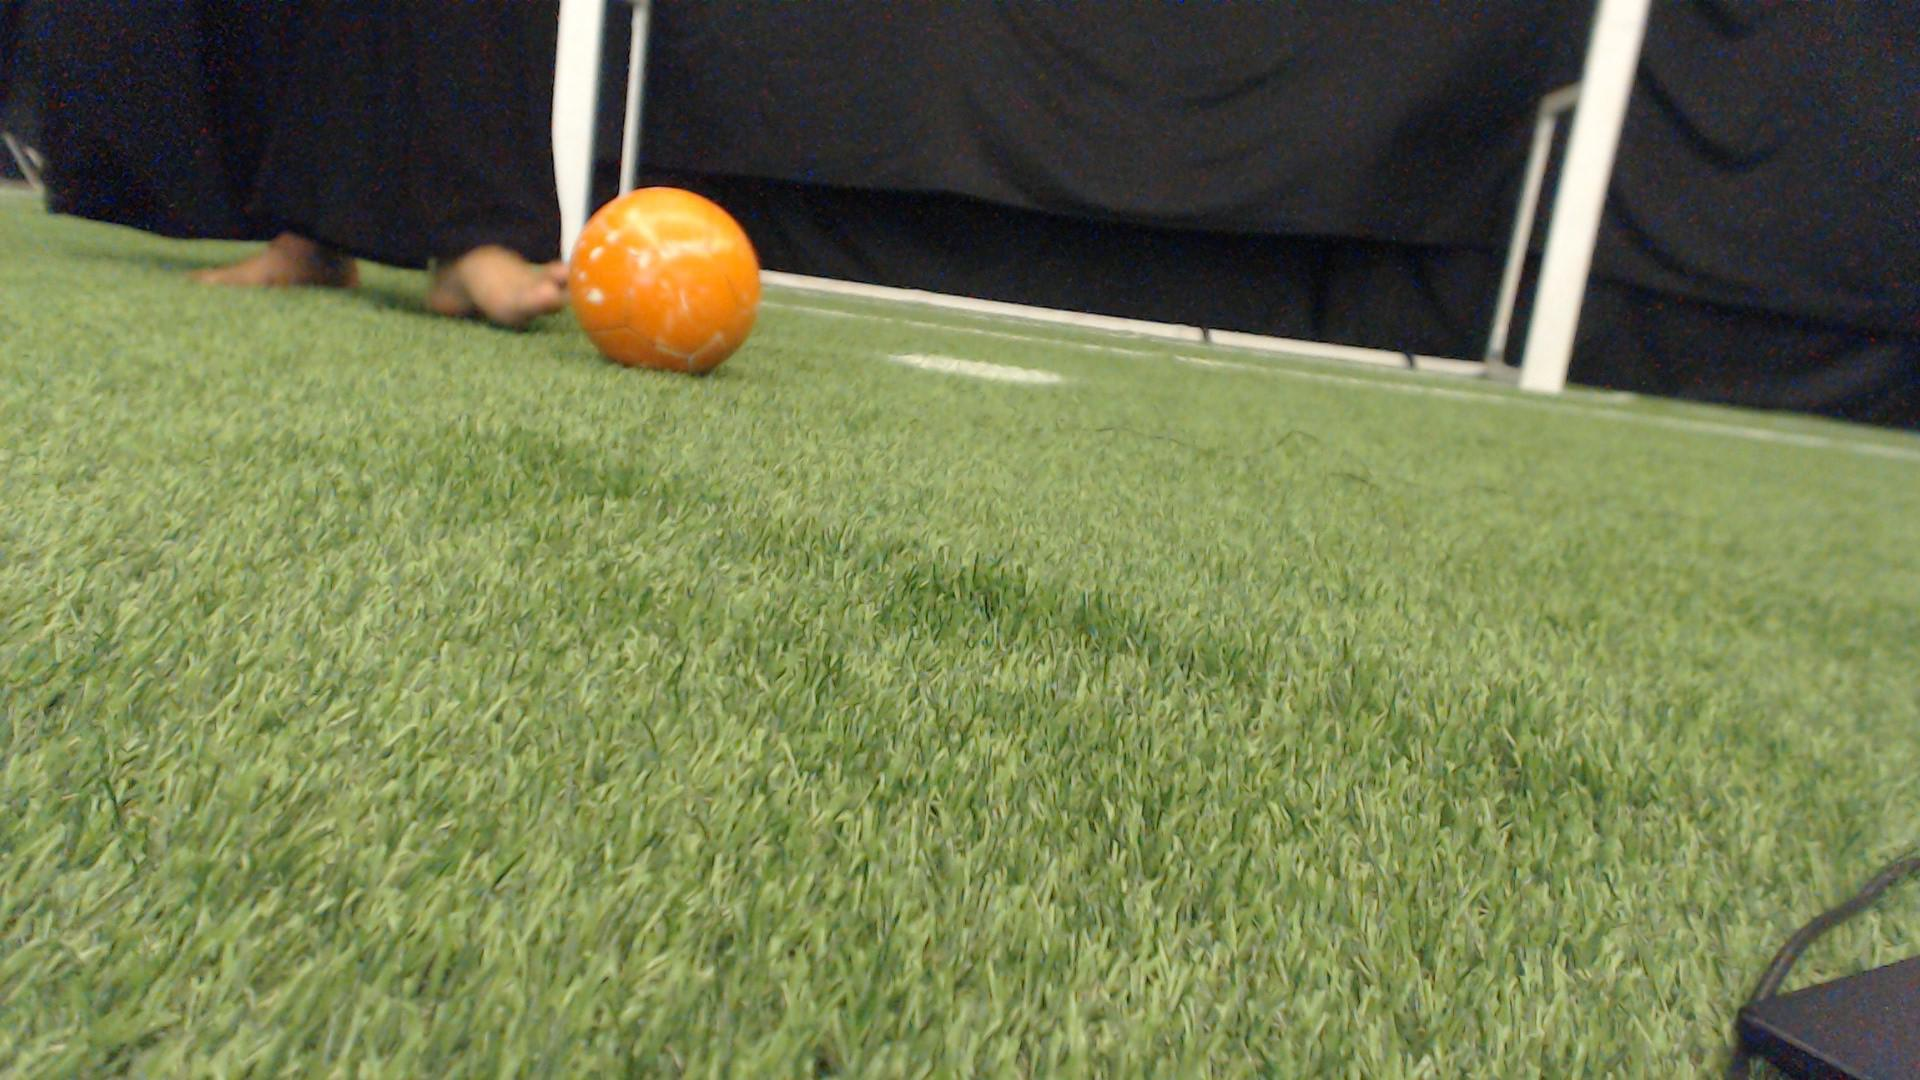bola: (551, 166, 774, 390)
